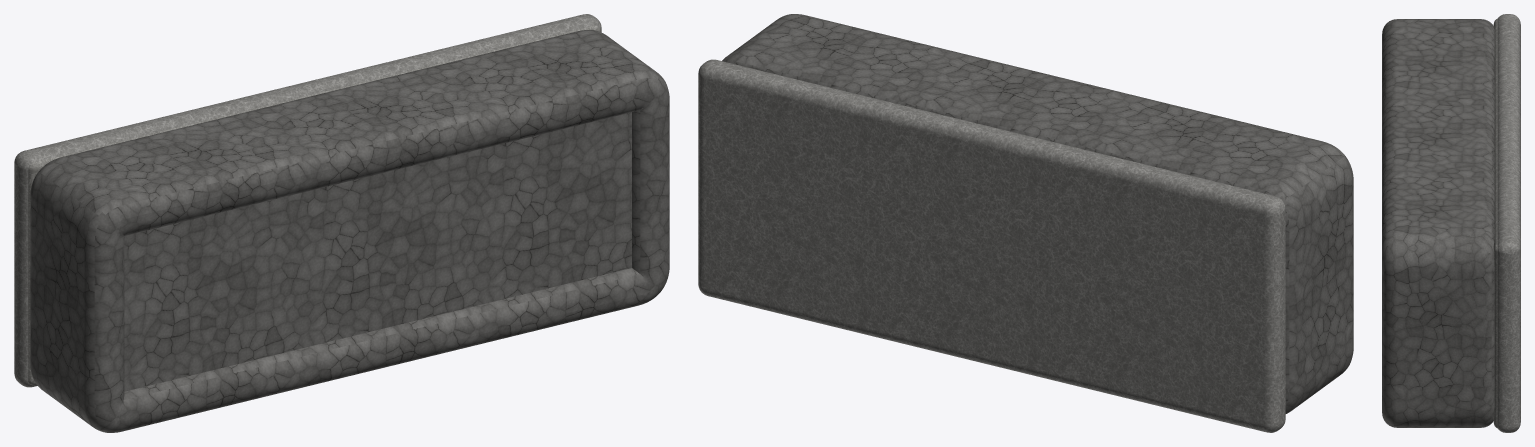
Rendered from eraser.glb.
3 renders of one model, left to right at view 1: azimuth 30°, elevation 25°; view 2: azimuth 150°, elevation 25°; view 3: azimuth 270°, elevation 25°, orthographic. The views are drawn at different scales.
Visible parts, largest first — view 1: Eraser_Foam, Eraser_Fuzz2, Eraser_Felt; view 2: Eraser_Fuzz2, Eraser_Foam; view 3: Eraser_Foam, Eraser_Fuzz2, Eraser_Felt.
Boxes of the visible parts, x1,y1,x2,y2 form: Eraser_Foam: [30, 30, 669, 432]; Eraser_Fuzz2: [14, 14, 601, 387]; Eraser_Felt: [28, 25, 600, 385]; Eraser_Fuzz2: [698, 59, 1285, 432]; Eraser_Foam: [722, 14, 1353, 413]; Eraser_Foam: [1382, 19, 1494, 427]; Eraser_Fuzz2: [1497, 14, 1520, 432]; Eraser_Felt: [1493, 18, 1497, 428].
Size of the model in its own units: 0.13 by 0.05 by 0.0325.
3 materials, 3 textured.
